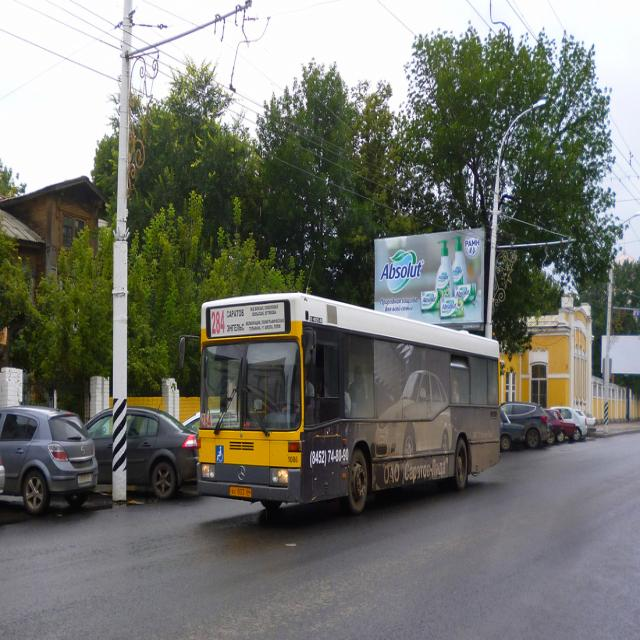number-of-bus: (209, 310, 228, 340)
